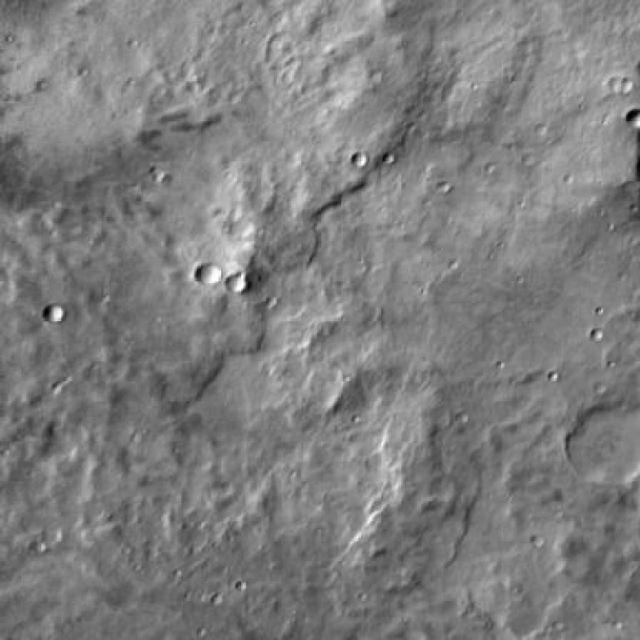crater: (571, 403, 640, 492), (196, 262, 221, 283), (223, 274, 243, 291), (44, 305, 61, 320)
